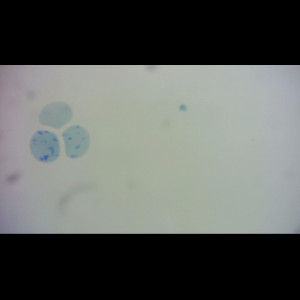aggregate reticulocyte: (29, 129, 62, 164), (61, 124, 92, 160)
erythrocyte: (36, 100, 74, 130)
